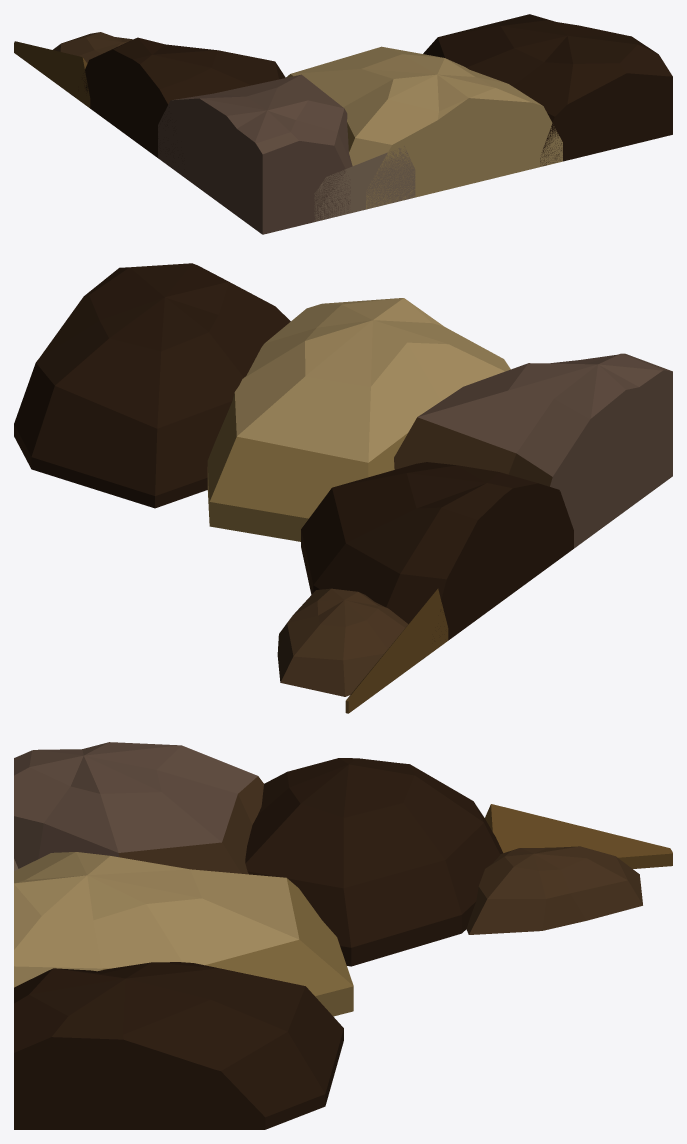
Rendered from newshr-163.glb.
The picture shows the model from 3 angles, top to bottom: view 1: azimuth 30°, elevation 25°; view 2: azimuth 150°, elevation 25°; view 3: azimuth 270°, elevation 25°; orthographic projection. The views are drawn at different scales.
Visible parts, largest first — view 1: newshr-163; view 2: newshr-163; view 3: newshr-163.
Part boxes in pixels (box(x1,y1,x2,y2)): newshr-163: box(14, 14, 672, 234); newshr-163: box(14, 263, 672, 713); newshr-163: box(14, 742, 672, 1129).
Size of the model in its own units: 2 by 0.454 by 2.1.
